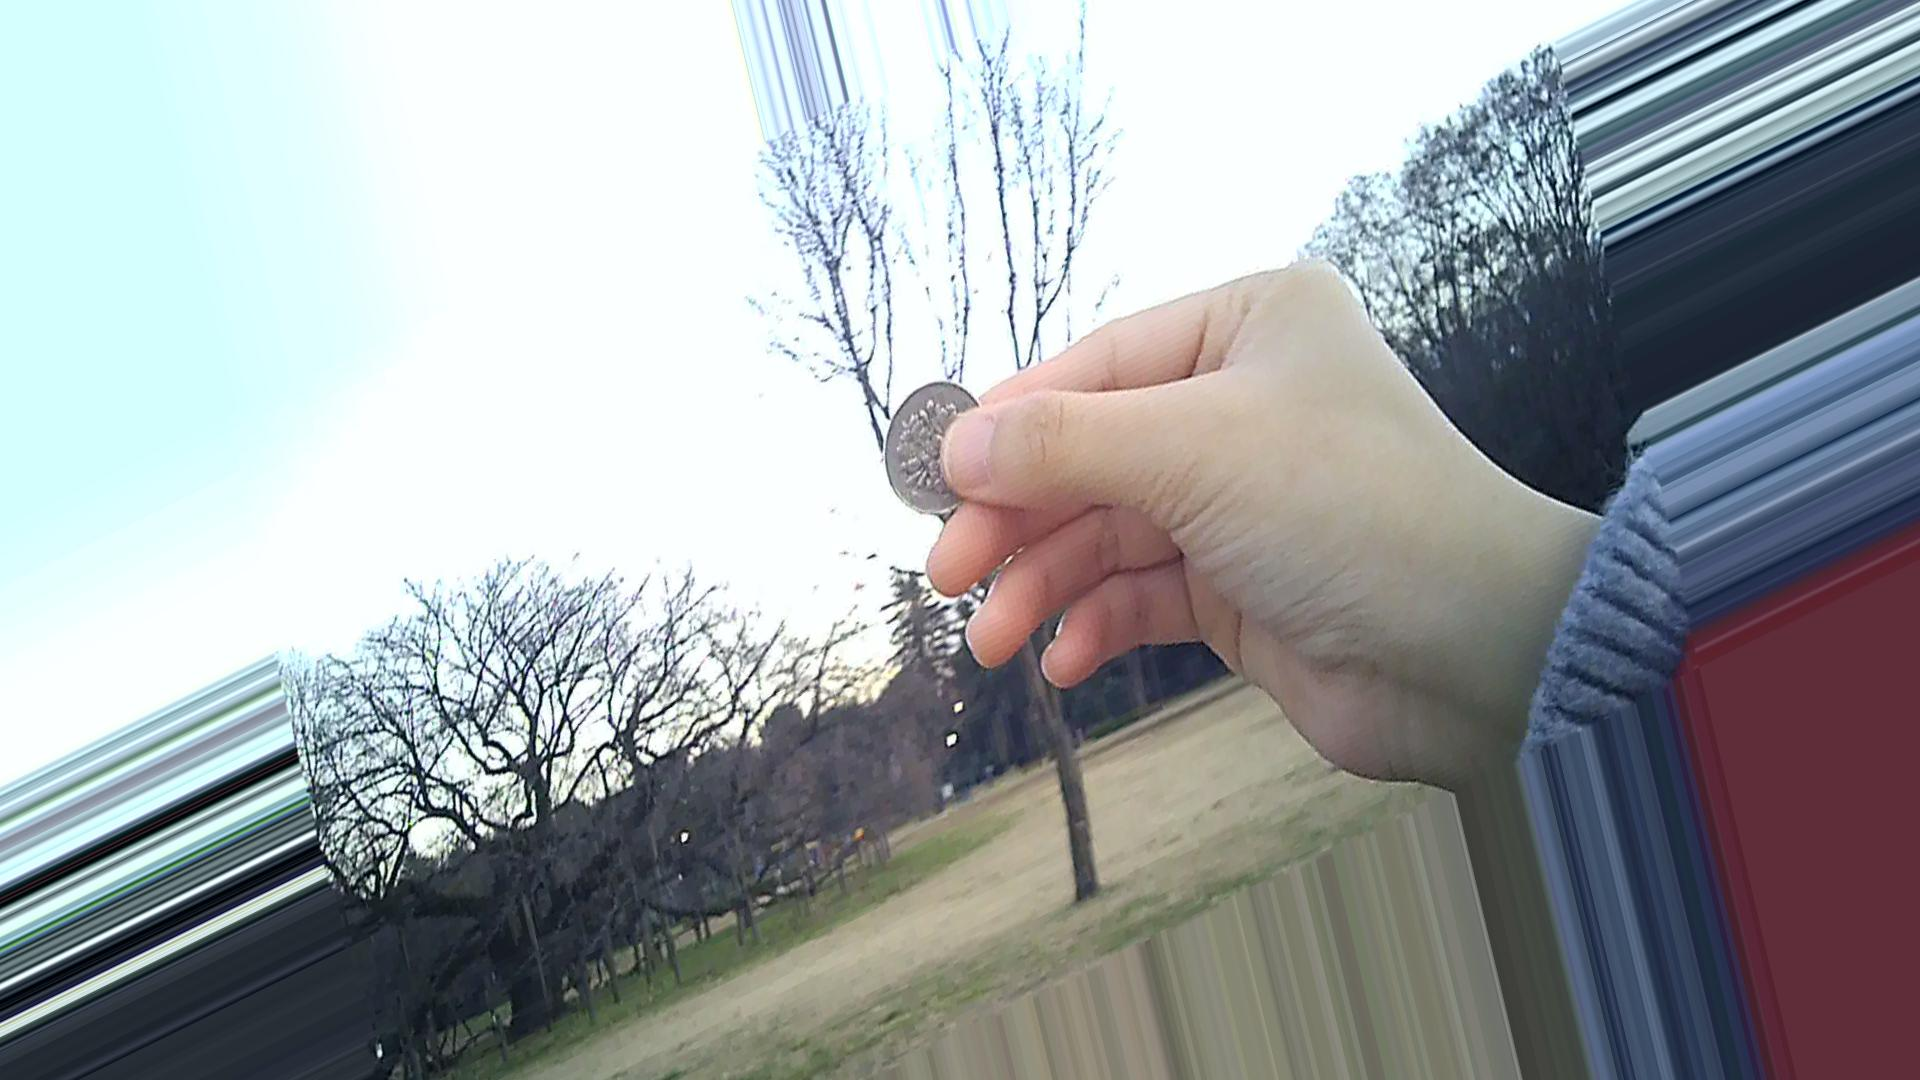100 Yen: (873, 371, 1005, 531)
